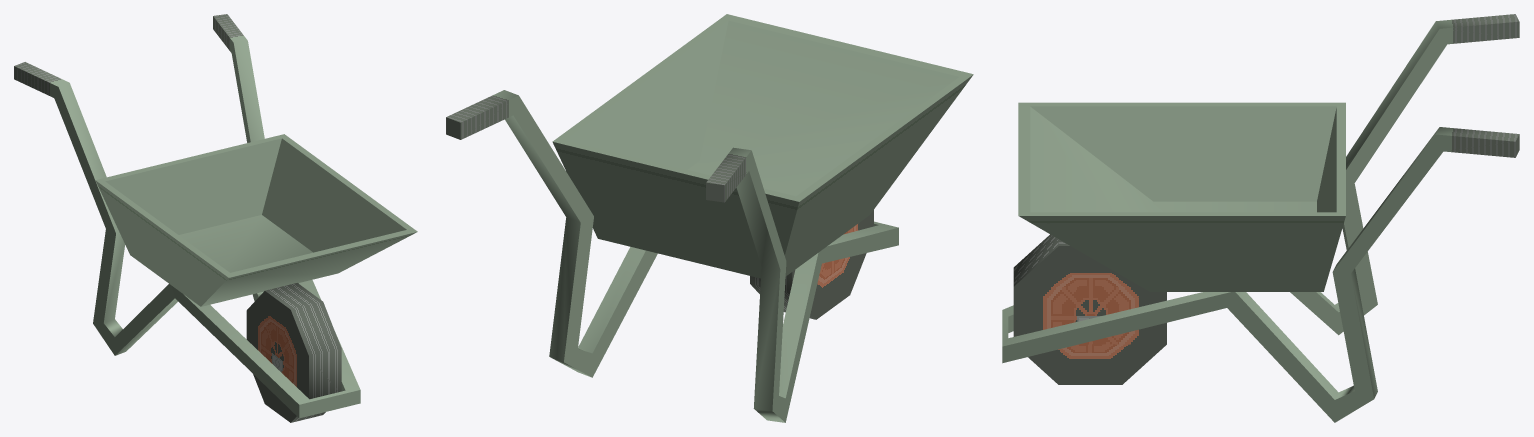
The model's file is 00d6_Wheelbarrow.glb.
3 renders of one model, left to right at view 1: azimuth 30°, elevation 25°; view 2: azimuth 150°, elevation 25°; view 3: azimuth 270°, elevation 25°, orthographic. The views are drawn at different scales.
Parts seen in each view (by area): view 1: part_0; view 2: part_0; view 3: part_0.
Boxes of the visible parts, x1,y1,x2,y2 form: part_0: [14, 14, 417, 422]; part_0: [446, 14, 973, 422]; part_0: [1002, 14, 1519, 422].
Bounding box in the file's own units: 0.7758 × 0.8429 × 1.33.
1 material, 1 textured.
